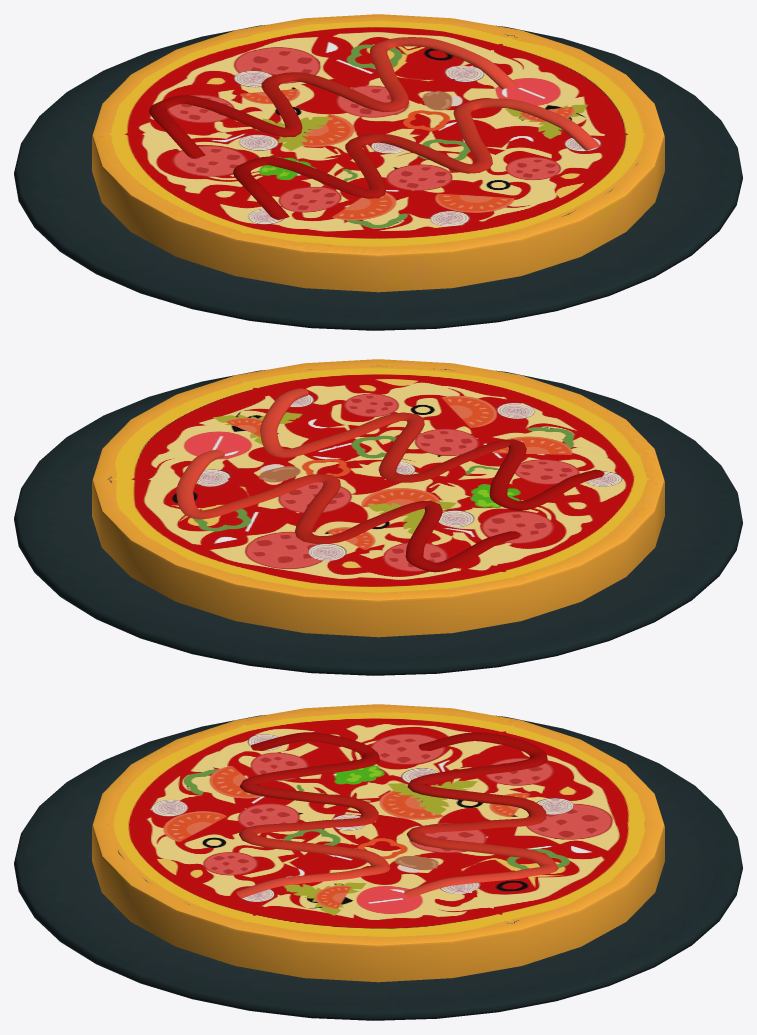
The model's file is Pizza.gltf.
3 views of the same model, one above another, from view 1: azimuth 30°, elevation 25°; view 2: azimuth 150°, elevation 25°; view 3: azimuth 270°, elevation 25° (orthographic).
Visible parts, largest first — view 1: pizza, Disk5, chili_sauce (×2); view 2: pizza, Disk5, chili_sauce (×2); view 3: pizza, Disk5, chili_sauce (×2).
Part boxes in pixels (left/top/right/bottom): pizza: left=92, top=14, right=664, bottom=292; Disk5: left=14, top=25, right=742, bottom=330; chili_sauce (×2): left=149, top=37, right=600, bottom=219; pizza: left=92, top=359, right=664, bottom=637; Disk5: left=14, top=370, right=742, bottom=675; chili_sauce (×2): left=176, top=388, right=604, bottom=572; pizza: left=92, top=704, right=664, bottom=982; Disk5: left=14, top=715, right=742, bottom=1020; chili_sauce (×2): left=236, top=732, right=558, bottom=898.
Size of the model in its own units: 24.83 by 2.21 by 24.82.
4 materials, 4 textured.
